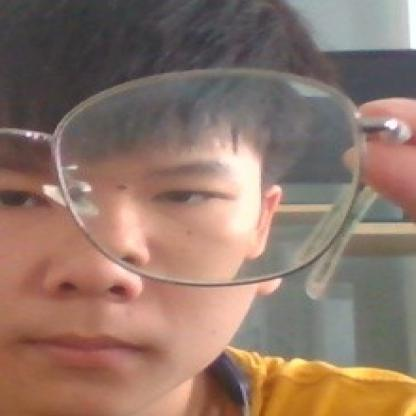not trash: (52, 70, 368, 285)
